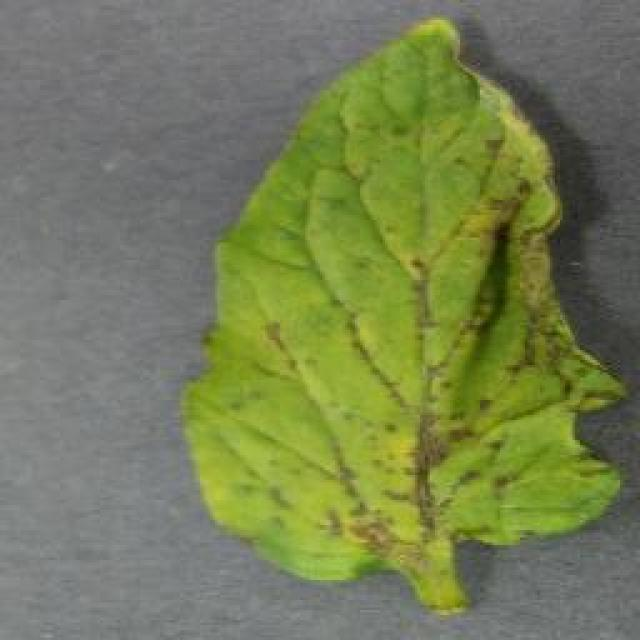Tomato bacterial spot leaf: (170, 13, 634, 587)
